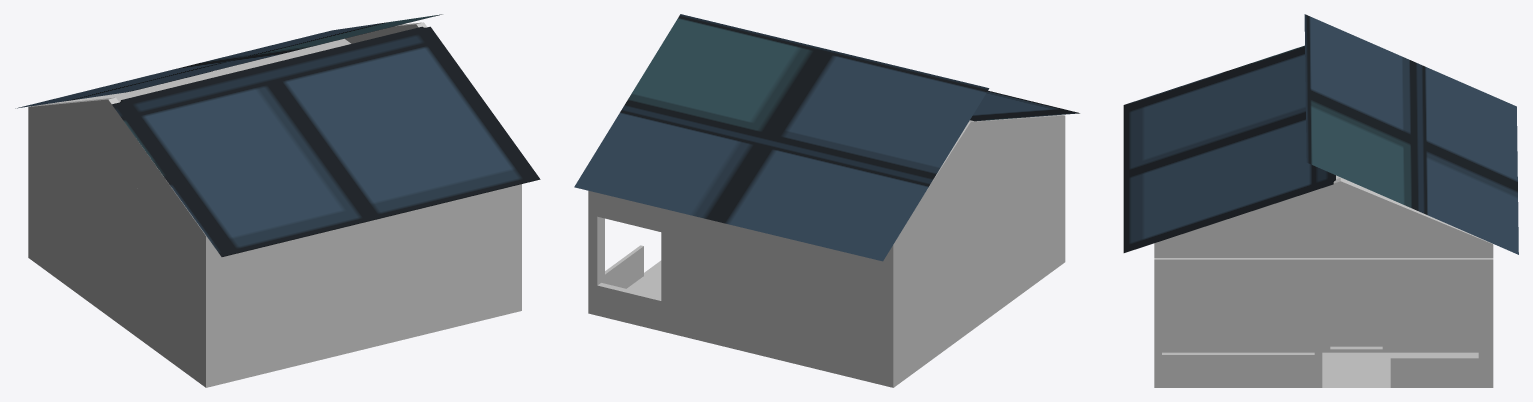
File: casa 02.fbx
3 views of the same model, side by side, from view 1: azimuth 30°, elevation 25°; view 2: azimuth 150°, elevation 25°; view 3: azimuth 270°, elevation 25° (orthographic). The views are drawn at different scales.
Parts seen in each view (by area): view 1: Cube.001; view 2: Cube.001; view 3: Cube.001.
Boxes of the visible parts, x1=… form: Cube.001: x1=15, y1=14, x2=540, y2=387; Cube.001: x1=574, y1=14, x2=1079, y2=387; Cube.001: x1=1123, y1=14, x2=1518, y2=387.
Size of the model in its own units: 447 by 318 by 513.
